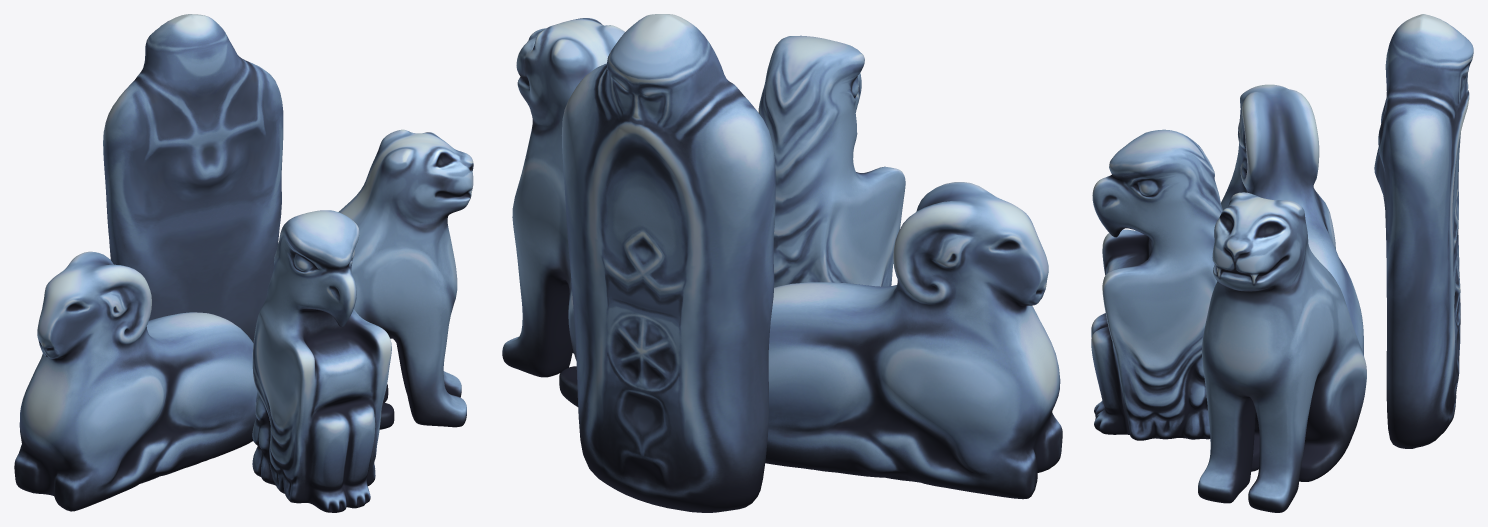
Rendered from totem.gltf.
3 renders of one model, left to right at view 1: azimuth 30°, elevation 25°; view 2: azimuth 150°, elevation 25°; view 3: azimuth 270°, elevation 25°, orthographic. The views are drawn at different scales.
Visible parts, largest first — view 1: man_low_quads_sub, sheep_low_quads_sub, eagle_low_quads_sub, tiger_low_quads_sub; view 2: man_low_quads_sub, sheep_low_quads_sub, eagle_low_quads_sub, tiger_low_quads_sub; view 3: tiger_low_quads_sub, eagle_low_quads_sub, man_low_quads_sub, sheep_low_quads_sub.
Boxes of the visible parts, bbox=[...] form: man_low_quads_sub: bbox=[103, 14, 283, 342]; sheep_low_quads_sub: bbox=[14, 251, 257, 511]; eagle_low_quads_sub: bbox=[252, 210, 391, 512]; tiger_low_quads_sub: bbox=[338, 129, 473, 429]; man_low_quads_sub: bbox=[561, 14, 775, 512]; sheep_low_quads_sub: bbox=[765, 182, 1062, 499]; eagle_low_quads_sub: bbox=[758, 35, 905, 287]; tiger_low_quads_sub: bbox=[502, 18, 624, 406]; tiger_low_quads_sub: bbox=[1198, 192, 1366, 512]; eagle_low_quads_sub: bbox=[1091, 129, 1222, 440]; man_low_quads_sub: bbox=[1374, 14, 1473, 448]; sheep_low_quads_sub: bbox=[1221, 84, 1363, 355].
Bounding box in the file's own units: 4.05 × 3.5 × 2.94.
4 materials, 4 textured.
